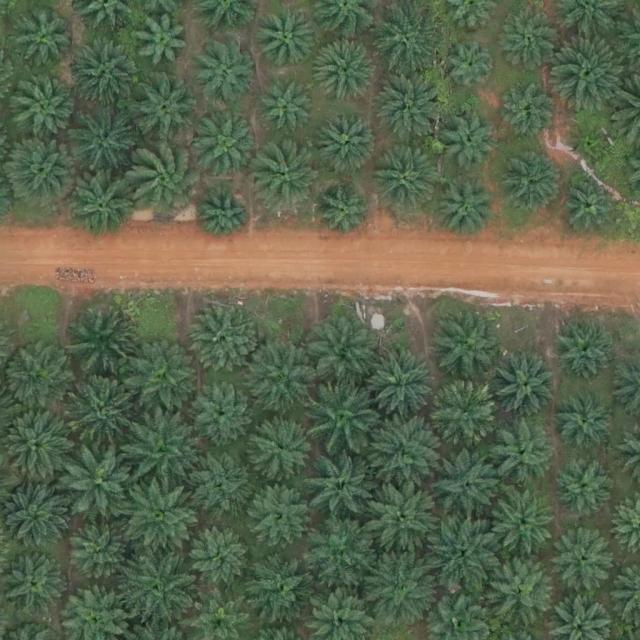Healthy: (129, 144, 207, 223), (427, 514, 498, 585), (432, 310, 503, 381), (366, 420, 437, 491), (364, 554, 435, 625), (305, 518, 376, 589), (246, 552, 317, 623), (64, 446, 135, 517), (2, 342, 73, 413), (486, 422, 556, 493), (484, 554, 555, 624), (432, 450, 502, 521), (369, 350, 439, 421), (369, 480, 439, 551), (310, 381, 380, 452), (309, 319, 379, 390), (250, 343, 320, 414), (184, 449, 254, 520), (189, 307, 260, 377), (125, 345, 196, 415), (129, 481, 199, 552), (125, 554, 195, 625), (66, 374, 136, 445), (3, 407, 73, 478), (372, 5, 442, 76), (377, 75, 447, 146), (370, 145, 440, 216), (129, 74, 199, 145), (66, 172, 137, 242), (9, 139, 79, 210), (306, 452, 376, 522), (127, 417, 197, 487), (71, 305, 141, 375), (554, 40, 624, 110), (254, 142, 324, 212), (69, 42, 139, 112), (69, 105, 139, 175), (554, 321, 617, 384), (492, 494, 555, 557), (250, 484, 313, 547), (67, 520, 130, 583), (435, 180, 498, 243), (317, 112, 380, 175), (255, 9, 318, 72), (12, 78, 75, 141), (553, 457, 615, 520), (494, 357, 556, 420), (251, 415, 313, 478), (187, 523, 249, 586), (190, 378, 252, 441), (502, 153, 564, 216), (194, 40, 256, 103), (555, 530, 617, 592), (555, 392, 617, 454), (317, 39, 379, 101), (197, 117, 259, 179), (503, 12, 558, 67), (443, 40, 498, 95), (318, 189, 373, 244), (197, 189, 252, 244), (135, 16, 190, 71), (17, 13, 72, 68), (263, 81, 317, 137), (563, 178, 617, 233), (501, 84, 555, 139), (443, 113, 497, 168)
Small: (573, 127, 612, 166)
Yellow: (430, 380, 500, 451)
